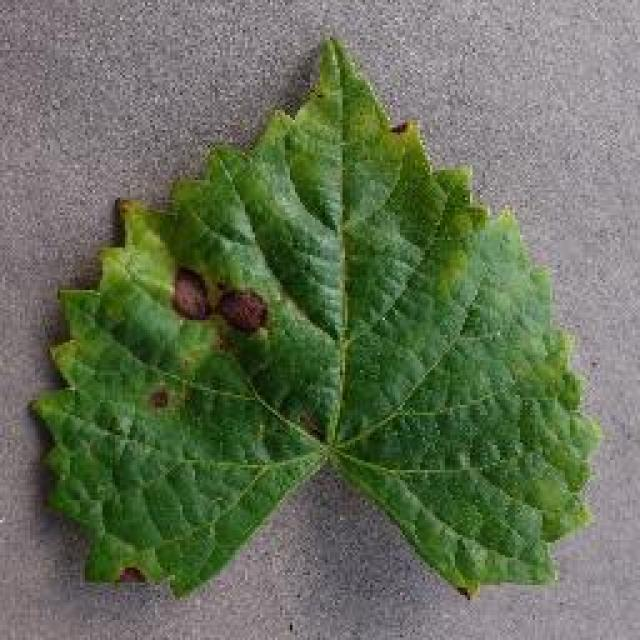Grape___Black_rot: (20, 26, 613, 611)
